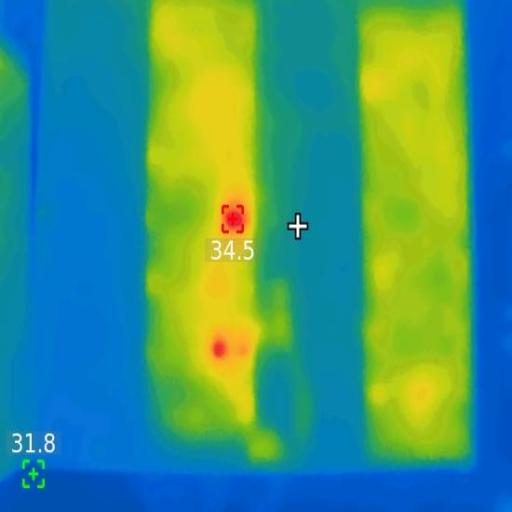hotspot: (218, 201, 248, 237), (210, 339, 229, 362)
